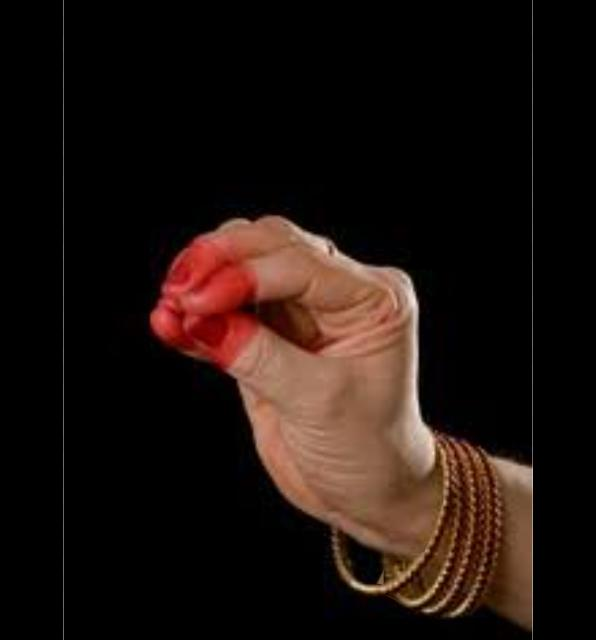mukul: (149, 209, 503, 618)
